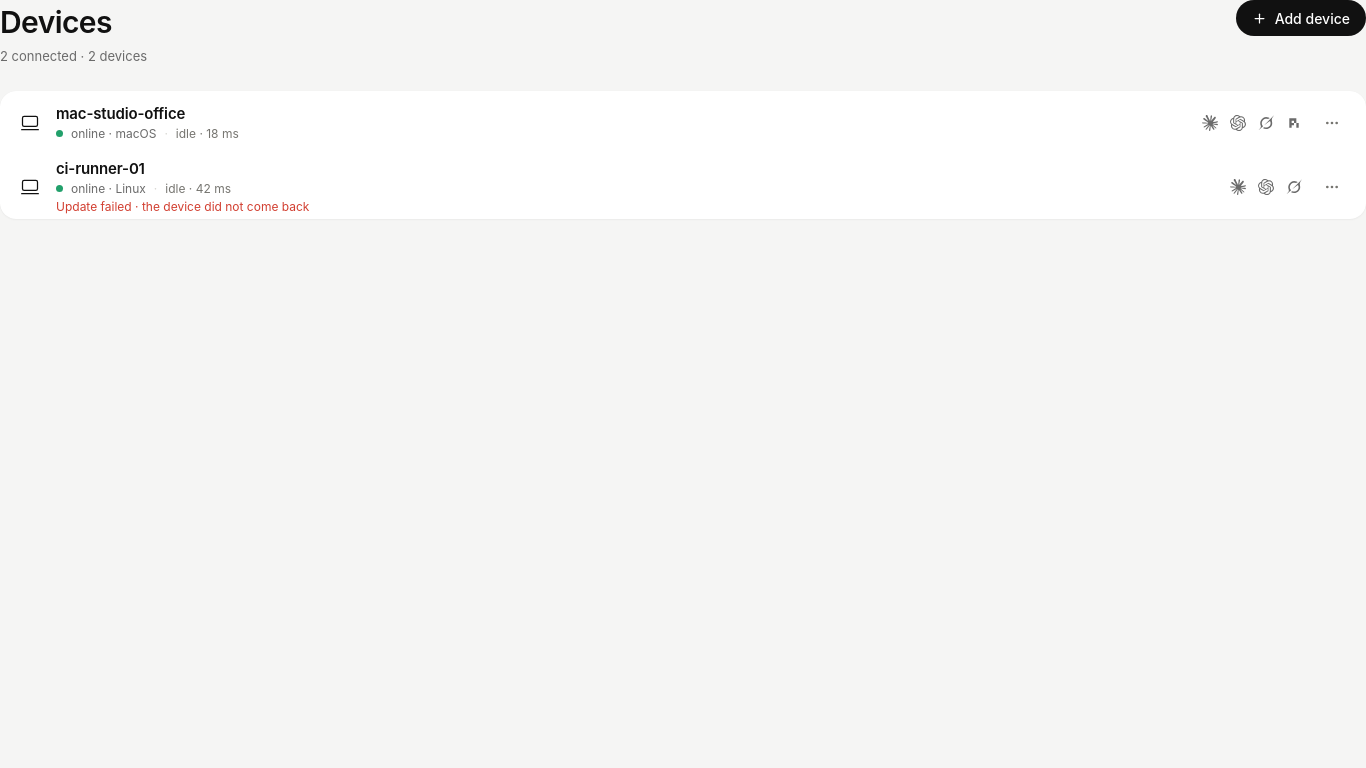
Test: device row menu › still routes a click inside the portal to the item it landed on
This screenshot has width=1366, height=768.
Click the button named "Open menu" in the row of "mac-studio-office" at (1332, 122), box x1=1318 y1=108 x2=1346 y2=136
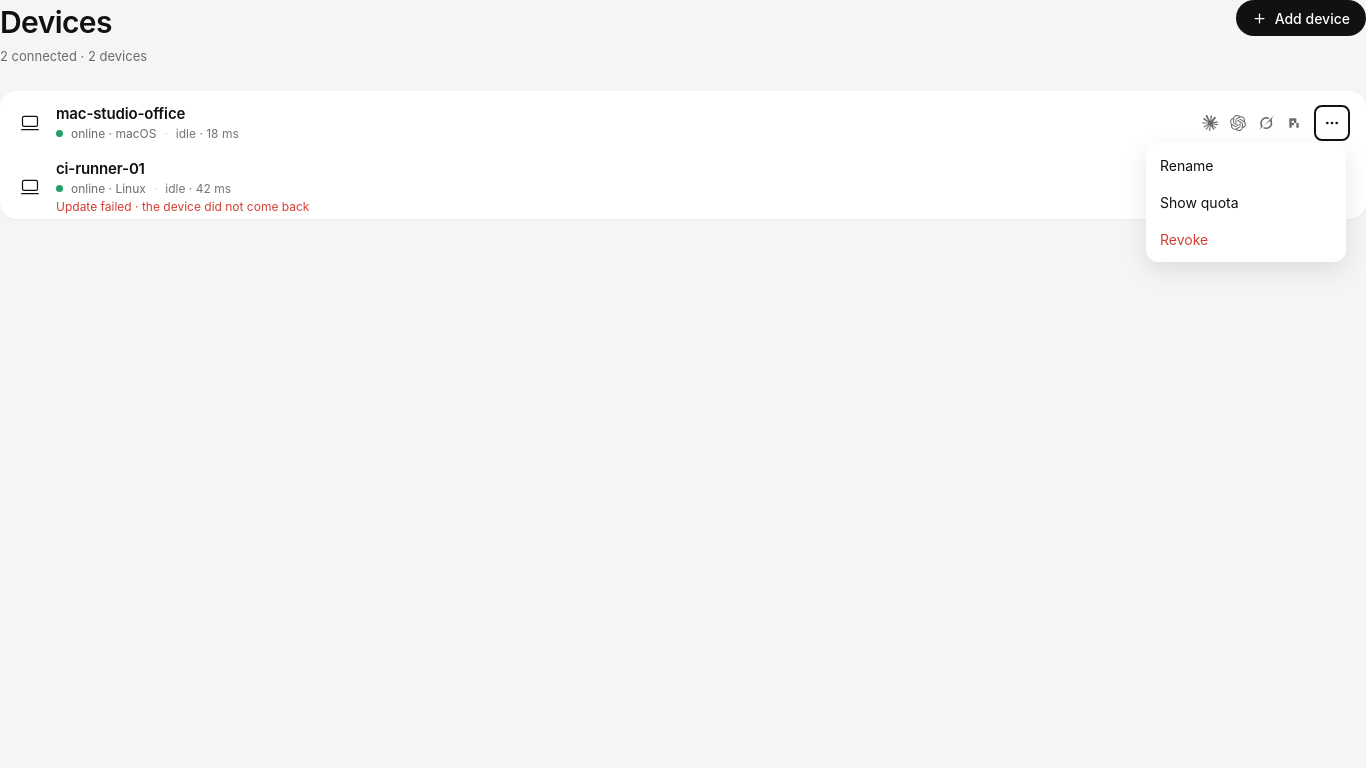
Click the menu item "Rename" at (1246, 166), box x1=1150 y1=147 x2=1342 y2=184
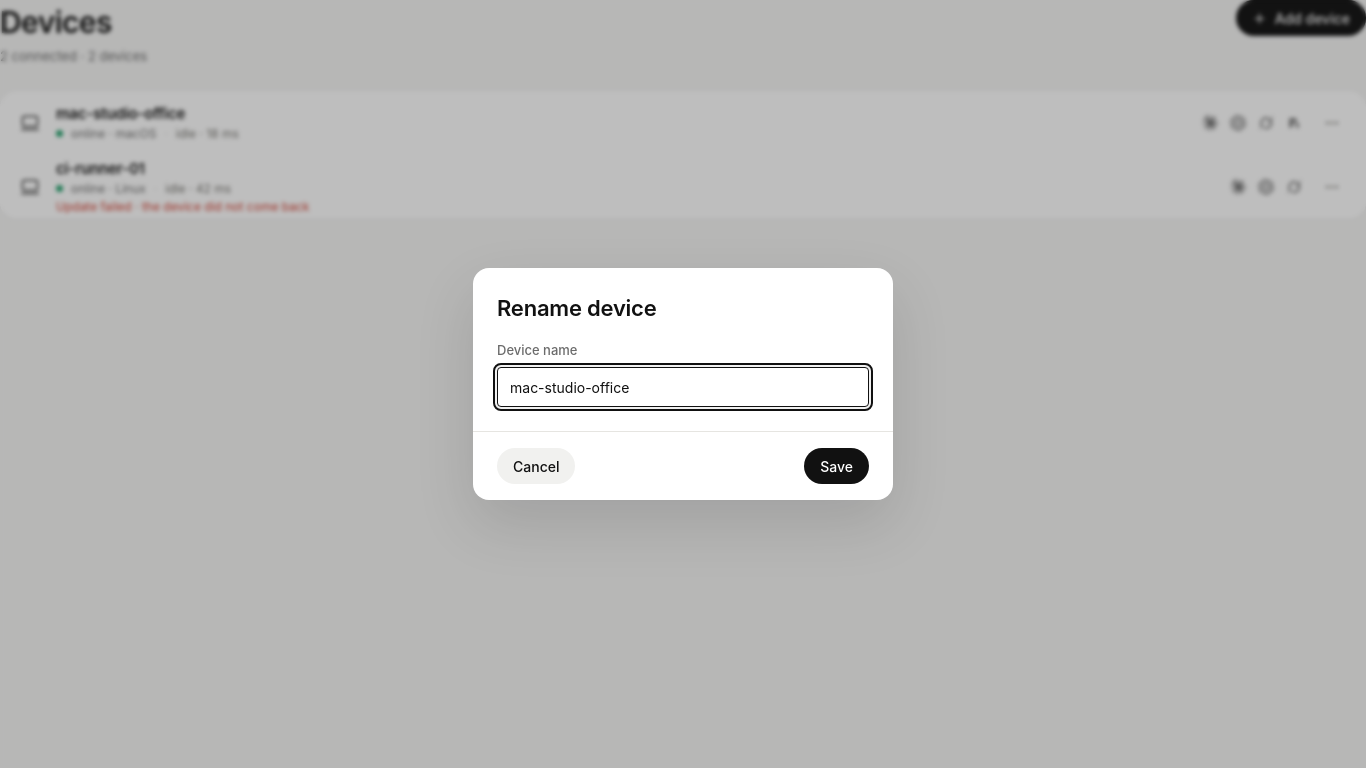
Check: the heading "Rename device" is shown, box x1=497 y1=292 x2=656 y2=325
Check: the menu is gone
